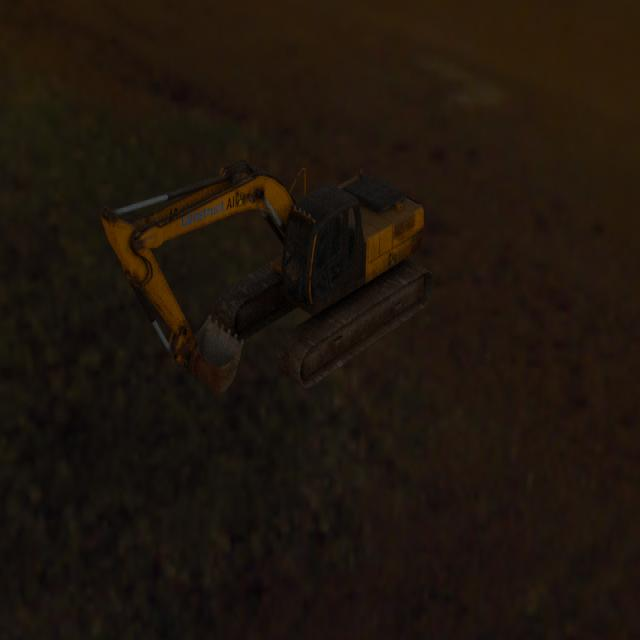excavator: (100, 160, 434, 393)
